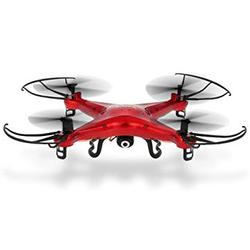drone: (4, 73, 247, 163)
